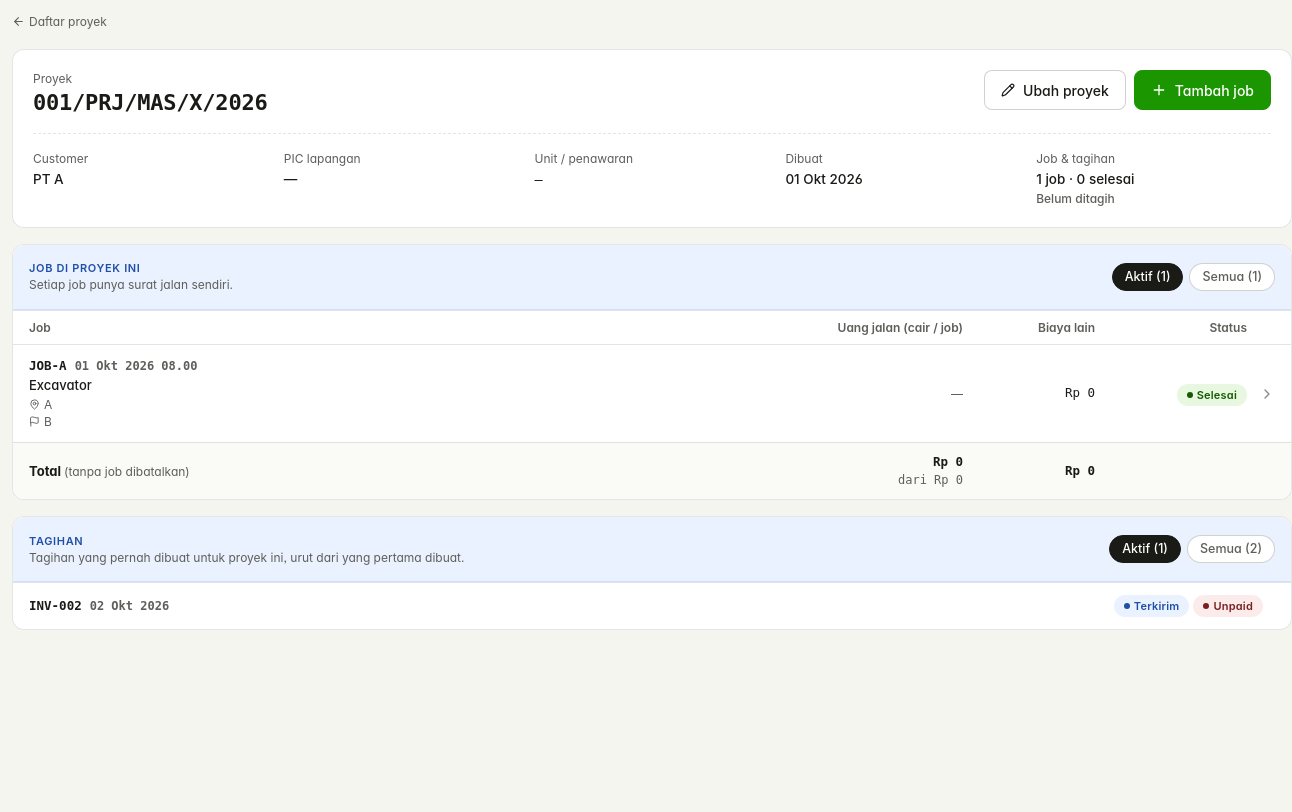
Test case: daftar tagihan proyek › default Aktif: tagihan batal disembunyikan; Semua menampilkannya
This screenshot has width=1292, height=812.
Expected: the text "INV-001" is not shown
Expected: the text "INV-00202 Okt 2026" is shown, [29,598,169,613]
Click the button "Semua (2)": click(1231, 550) [1187,536,1275,564]
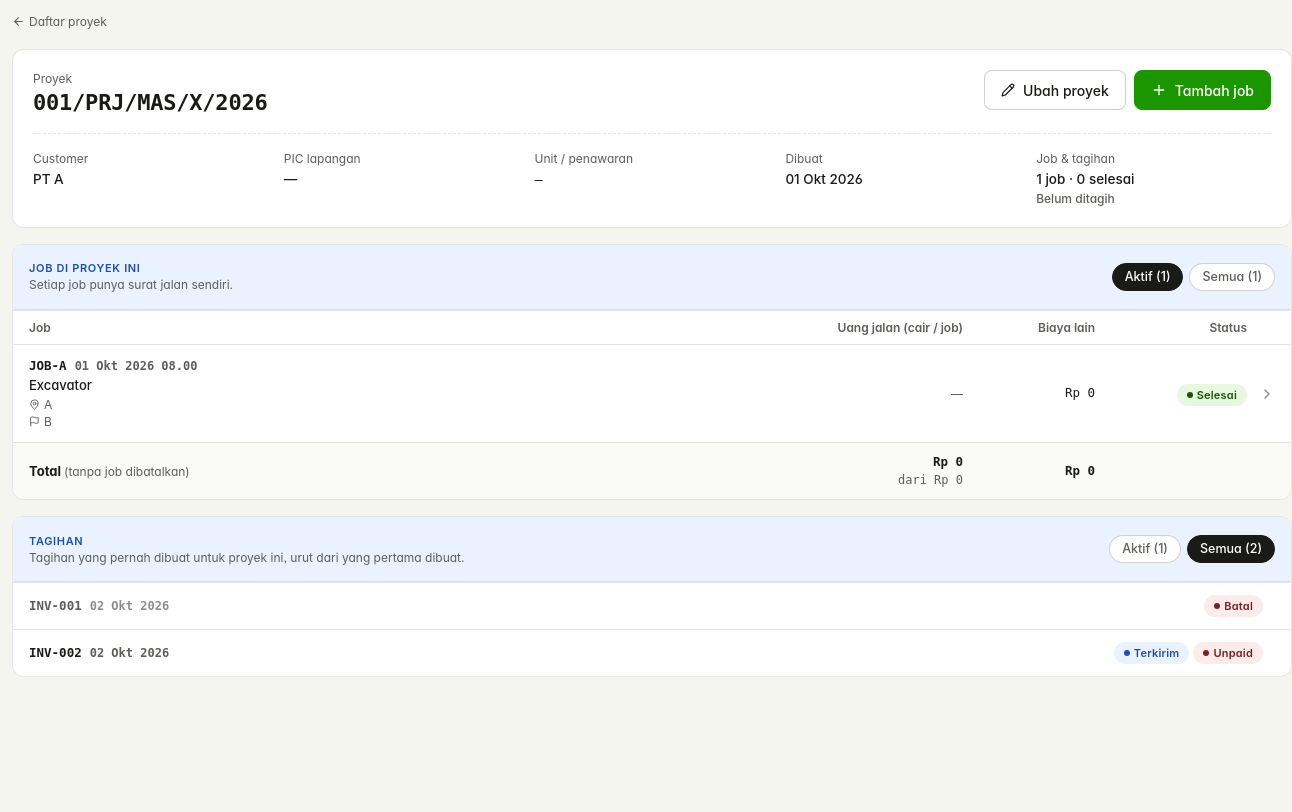
Result: the text "INV-00102 Okt 2026" is shown at [29,598,169,613]
